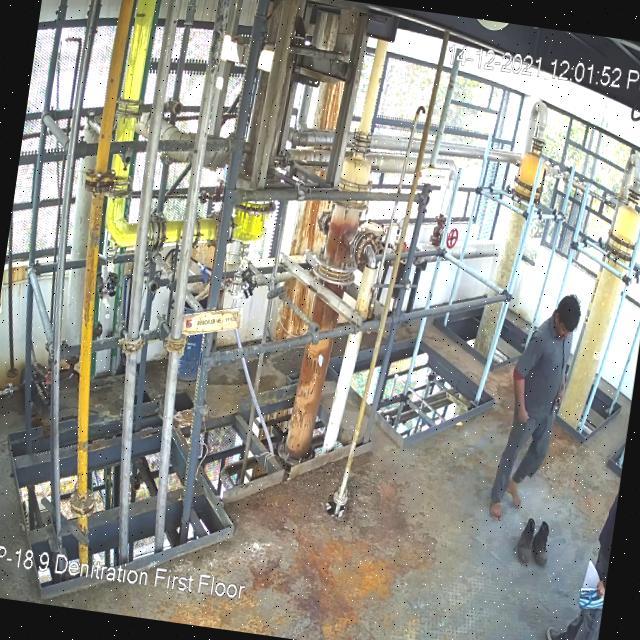boots: (526, 516, 558, 576), (511, 515, 538, 564)
no-boots: (484, 490, 507, 520)
